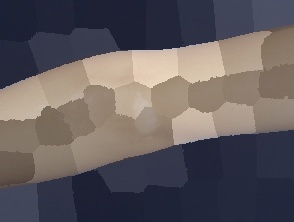vitiligo: (29, 75, 181, 148)
